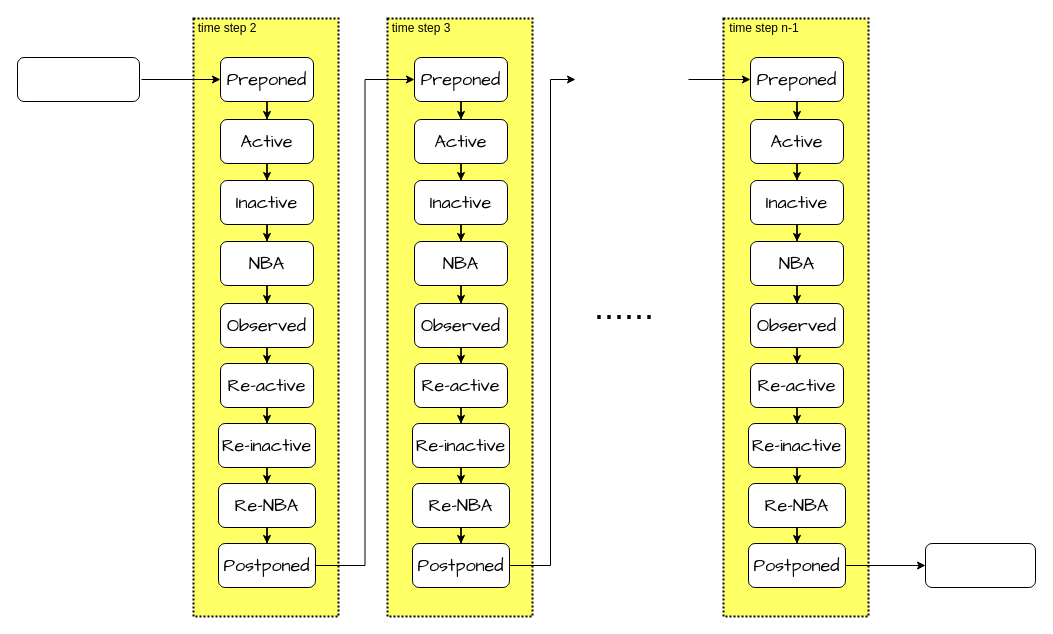
Some shapes in this 1053 by 634 pixel diagram are drawn without their labels. The shapes that lost their labels are listed below. From the top down, each one's centre as x and y in pixels, then its label:
At pixel 78 79: "time step 1 Postponed".
At pixel 980 565: "time step n Preponed".
